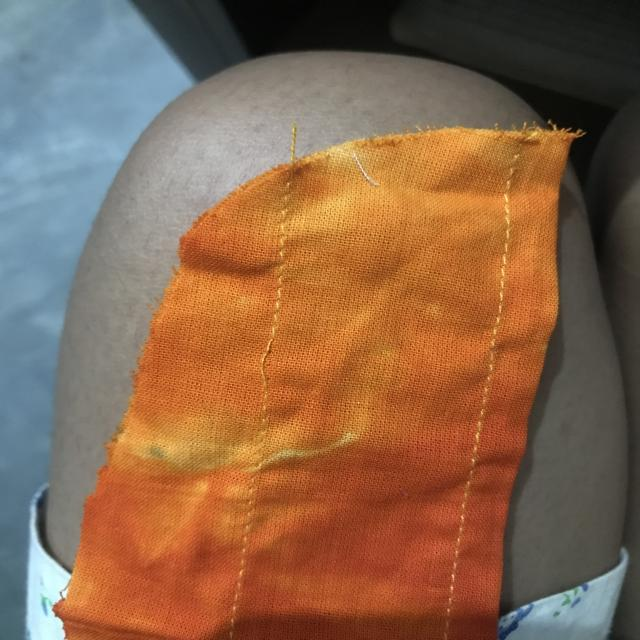good: (474, 272, 516, 377), (447, 500, 472, 594)
skip: (246, 322, 292, 406)
